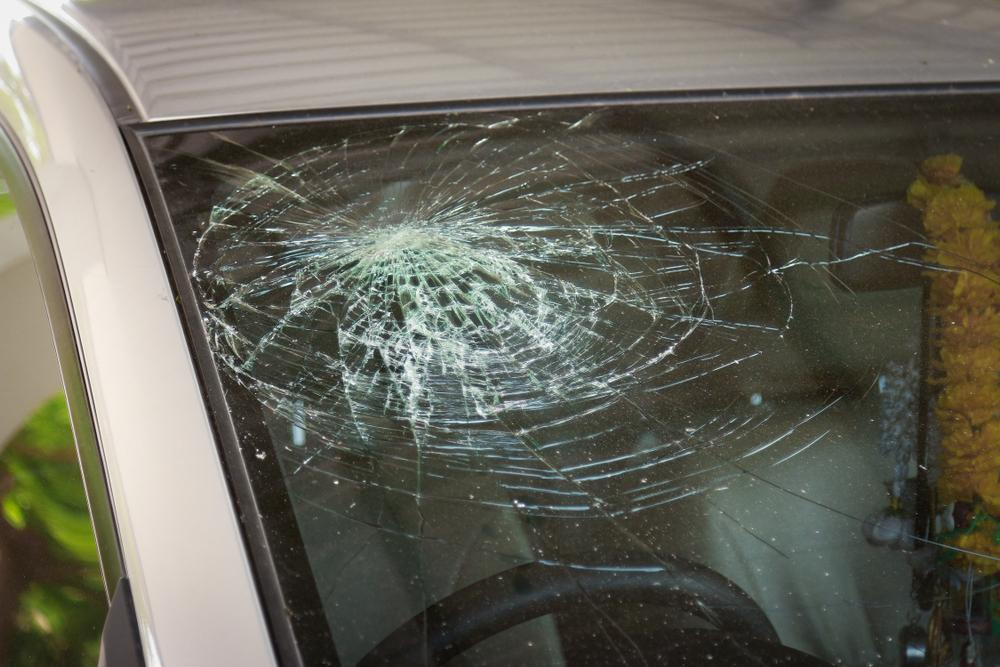glass shatter: (142, 88, 1000, 667)
